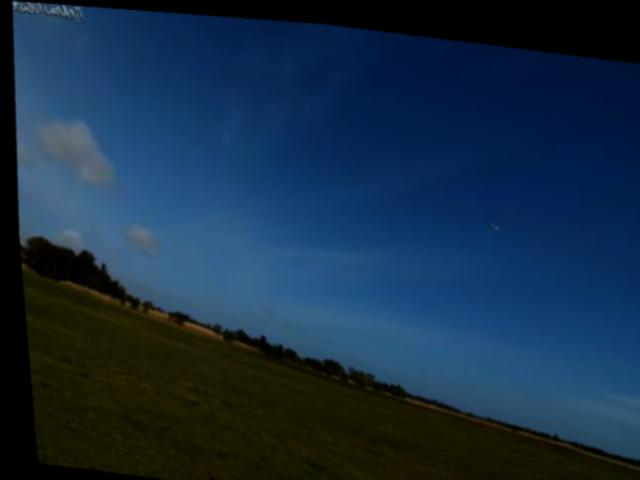uav: (482, 208, 500, 228)
